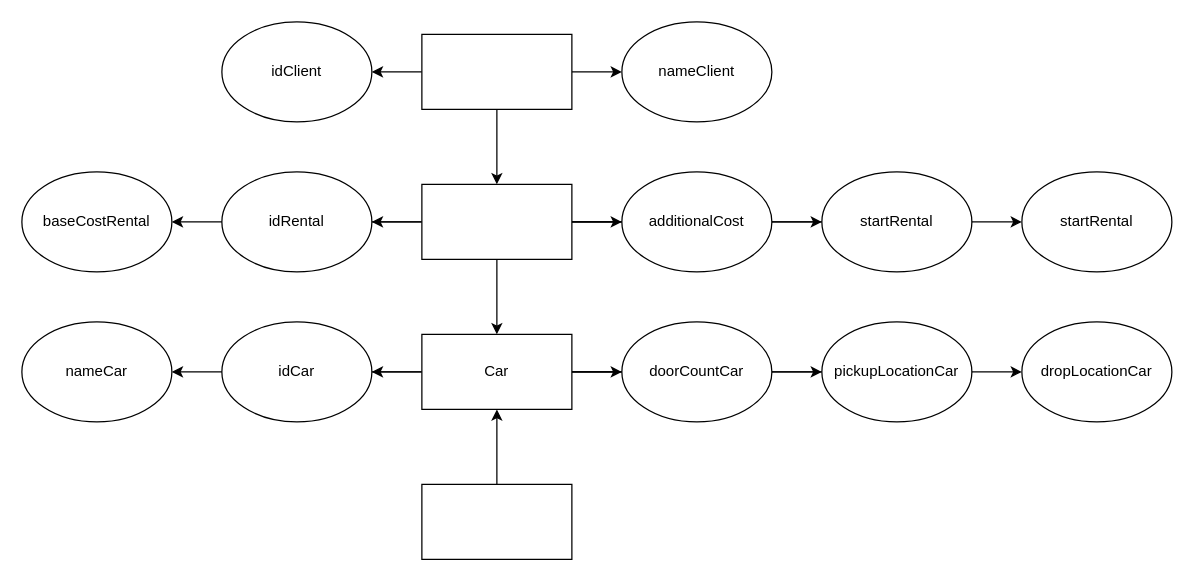
Some shapes in this 1194 by 581 pixel diagram are drawn without their labels. The shapes that lost their labels are listed below. From the top down, each one's centre as x and y in pixels, then its label:
the point at 496,71: Client
the point at 496,221: Rental
the point at 496,521: Company
